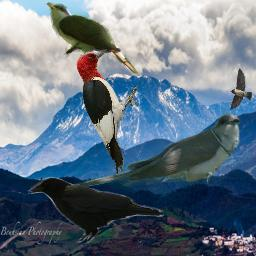Crow: (25, 174, 164, 243)
Cuckoo: (64, 112, 240, 193), (44, 2, 139, 74)
Swallow: (230, 68, 252, 110)
Woodpecker: (75, 48, 139, 174)
